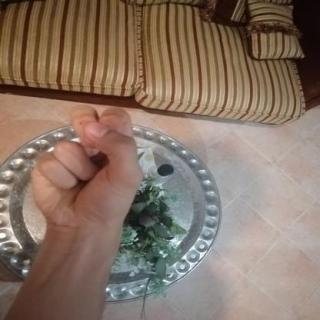QAAF: (17, 97, 158, 239)
